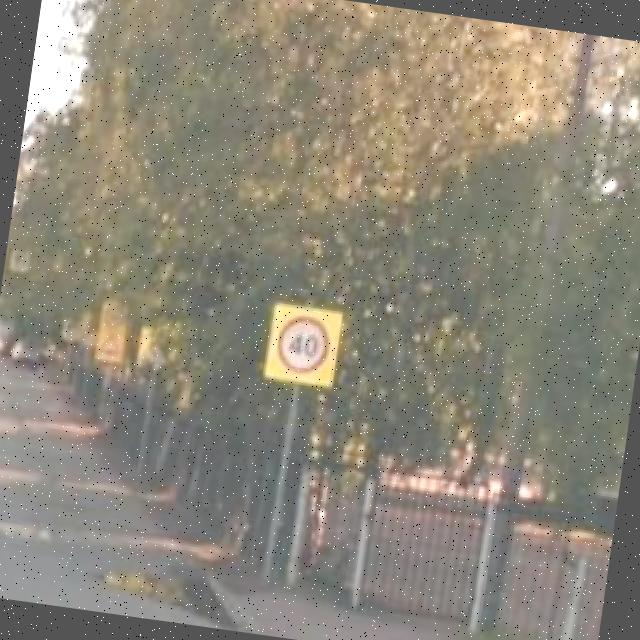Ograniczenie predkosci do 40: (273, 311, 336, 379)
